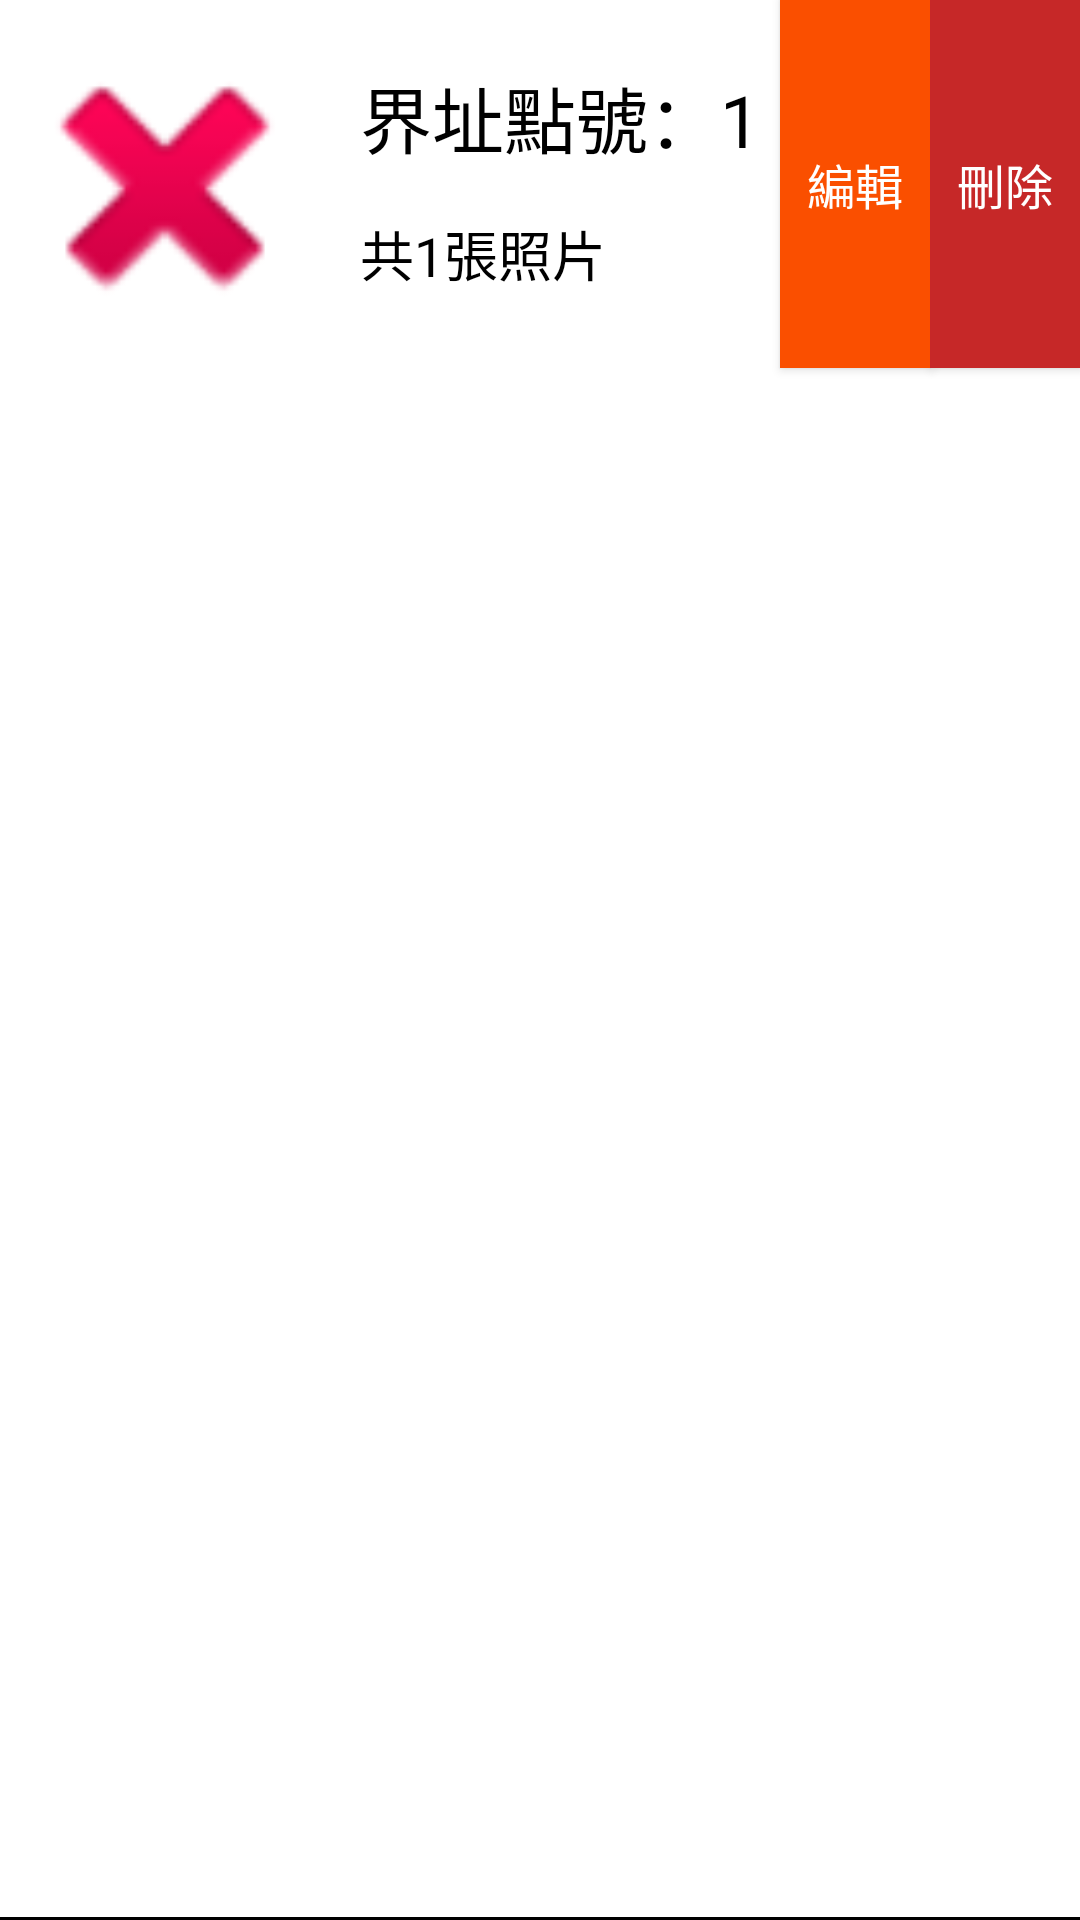

Screen size 1080 x 1920. Icon name, then its center in pixels as point (x, y):
delete: point (165, 187)
